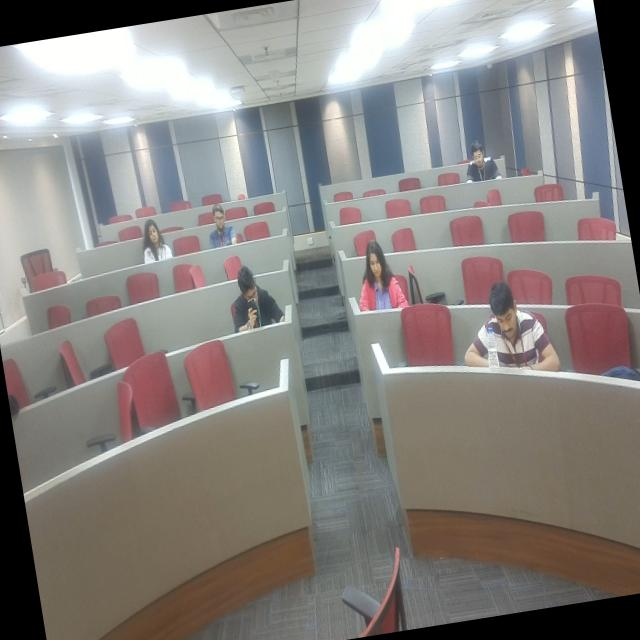cheating: (218, 259, 292, 344), (130, 212, 180, 280)
